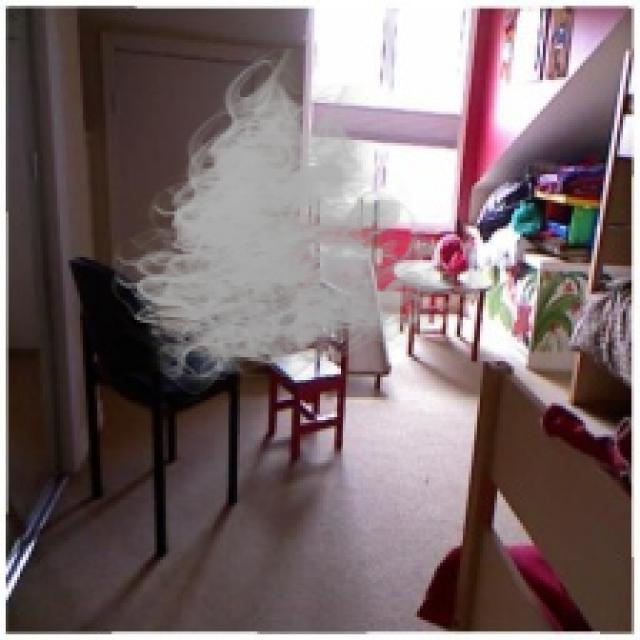smoke: (100, 48, 489, 403)
